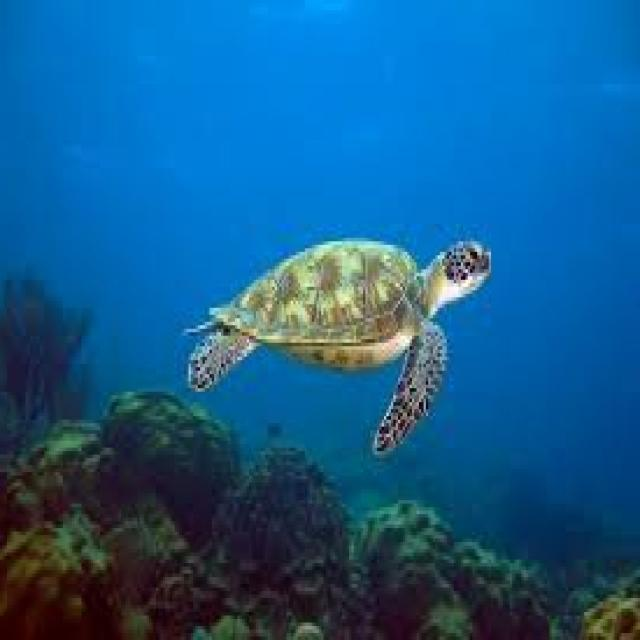turtle: (189, 238, 491, 455)
